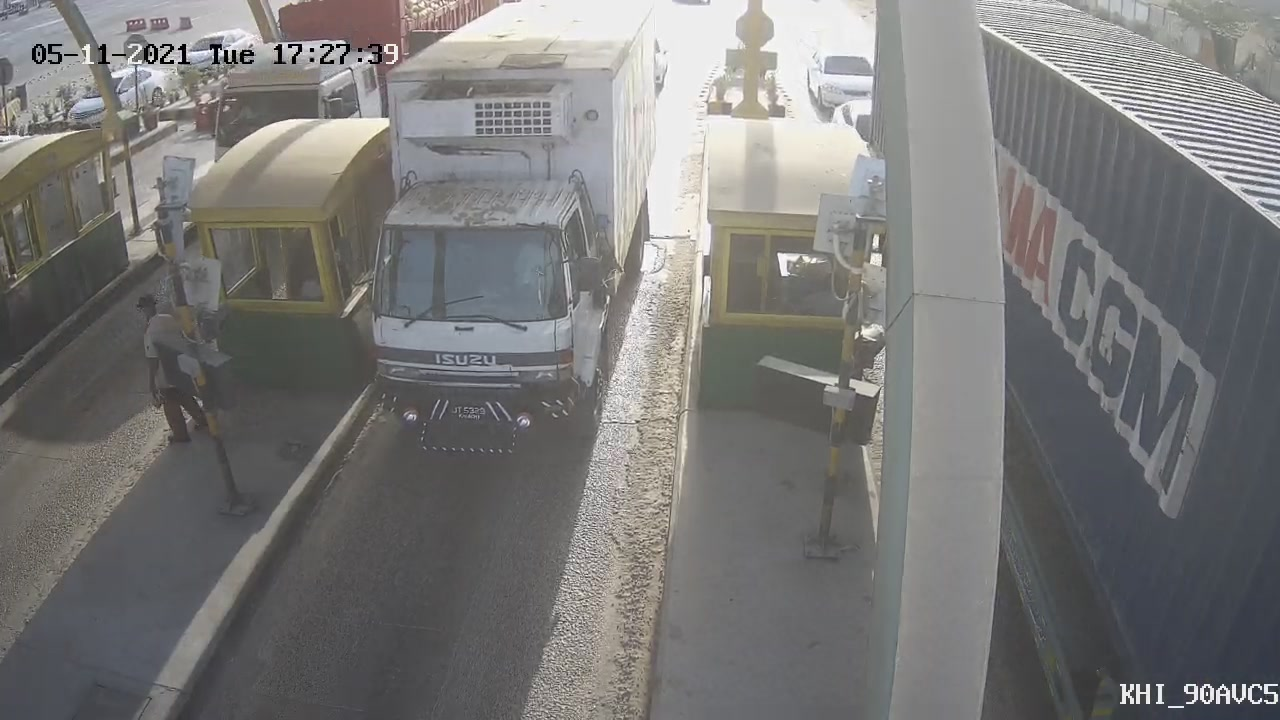F5: (312, 1, 672, 473)
